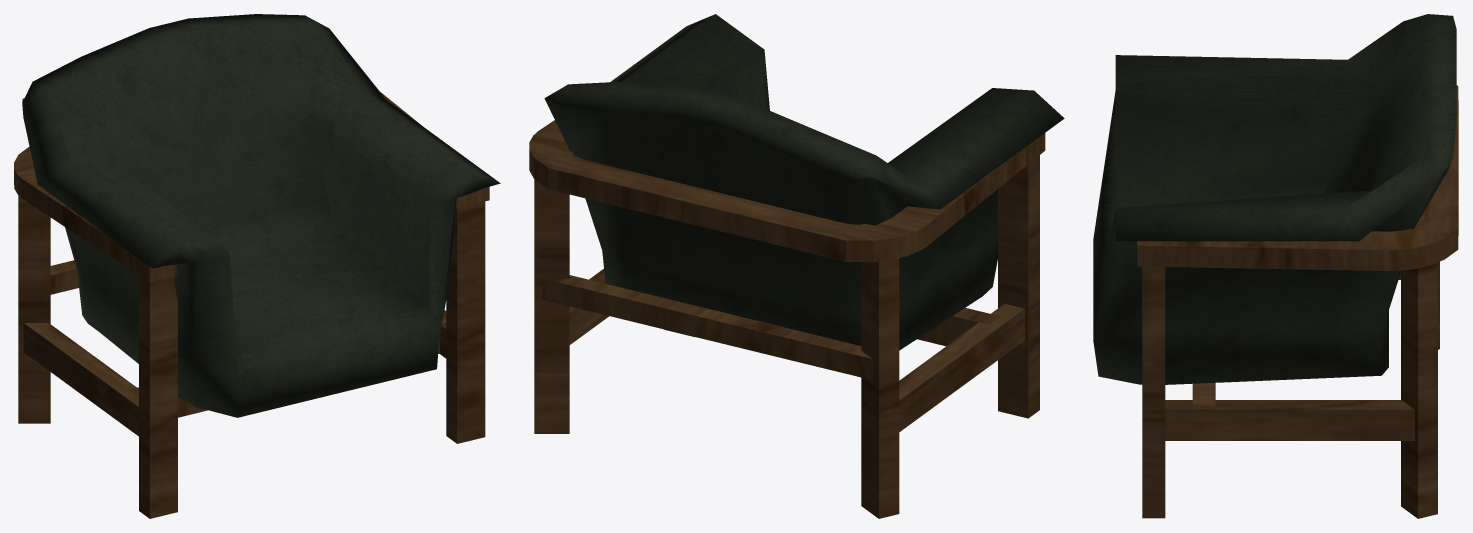
Rendered from LC_3006_ChairB_LOD1.FBX.
The picture shows the model from 3 angles, left to right: view 1: azimuth 30°, elevation 25°; view 2: azimuth 150°, elevation 25°; view 3: azimuth 270°, elevation 25°; orthographic projection. The views are drawn at different scales.
Visible parts, largest first — view 1: LC_3006_ChairB_LOD1; view 2: LC_3006_ChairB_LOD1; view 3: LC_3006_ChairB_LOD1.
Boxes of the visible parts, box(x1,y1,x2,y2) form: LC_3006_ChairB_LOD1: box(14, 14, 500, 518); LC_3006_ChairB_LOD1: box(529, 14, 1064, 518); LC_3006_ChairB_LOD1: box(1093, 14, 1458, 518).
Size of the model in its own units: 76.43 by 71.19 by 63.5.
1 material, 1 textured.
